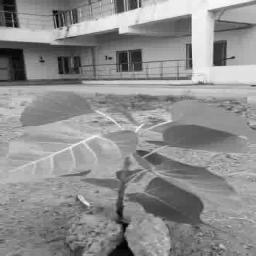LEAVS: (9, 89, 248, 224)
